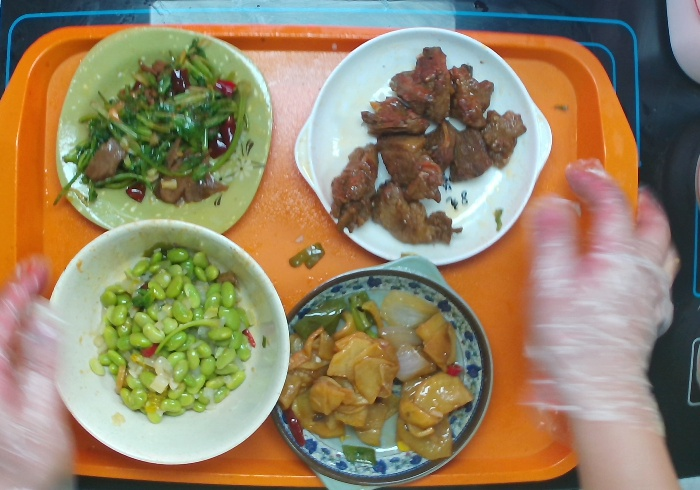NLDX-Bai_Se_Shuang_Er_Die: (288, 24, 557, 272)
NLDX-Bai_Se_Yuan_Wan: (39, 218, 295, 468)
NLDX-Lv_Hua_Fang_Die: (56, 22, 277, 238)
NLDX-Qing_Hua_Shuang_Er_Die: (267, 251, 495, 487)
